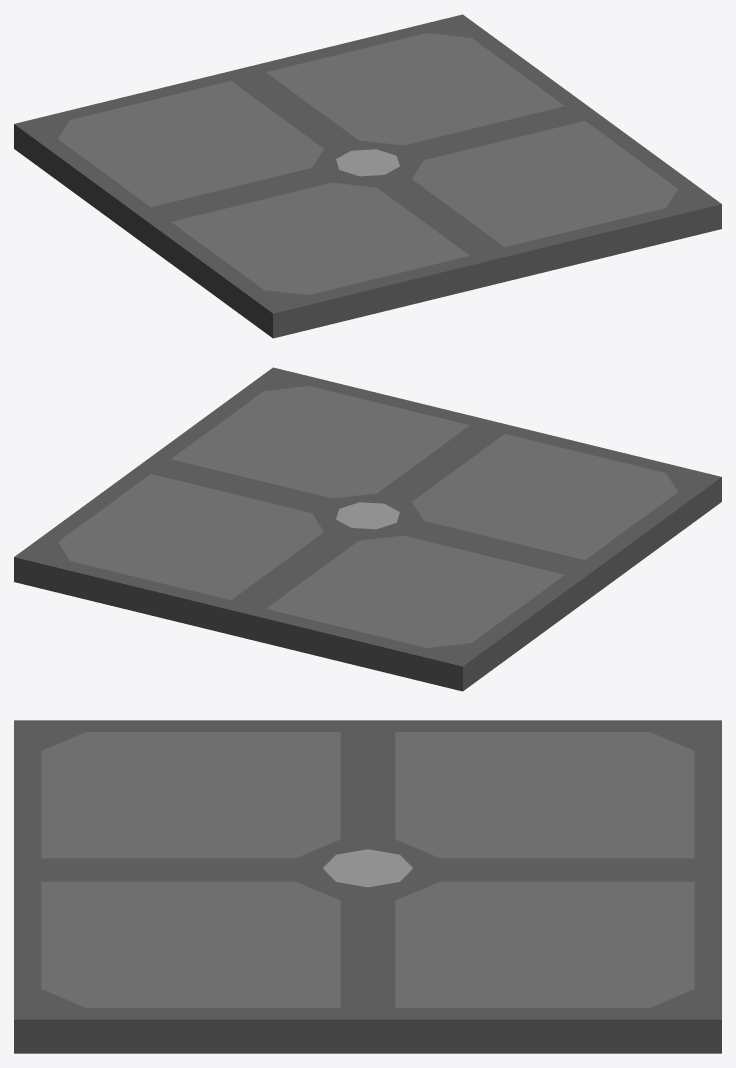
The model's file is tile_platform_011.fbx.
3 views of the same model, one above another, from view 1: azimuth 30°, elevation 25°; view 2: azimuth 150°, elevation 25°; view 3: azimuth 270°, elevation 25° (orthographic). The views are drawn at different scales.
Visible parts, largest first — view 1: tile_platform_011; view 2: tile_platform_011; view 3: tile_platform_011.
Boxes of the visible parts, x1,y1,x2,y2 form: tile_platform_011: [14, 14, 721, 338]; tile_platform_011: [14, 367, 721, 691]; tile_platform_011: [14, 720, 721, 1053].
Bounding box in the file's own units: 400 × 400 × 22.26.
